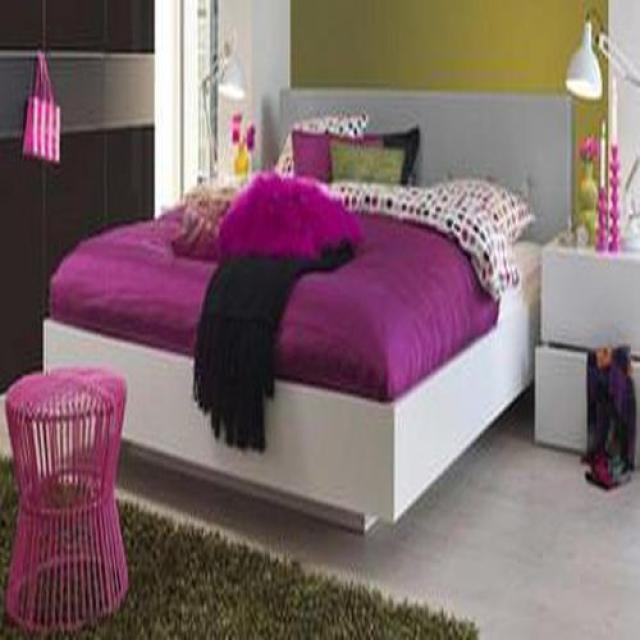bed: (42, 90, 575, 526)
